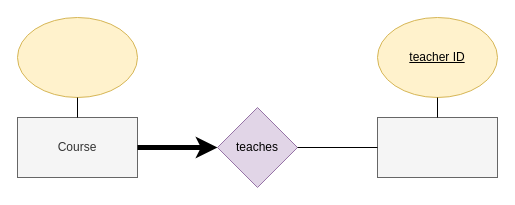
This 515x205 diagram has some shape labels left out. Each missing label, with the centre of its shape:
course ID: point (77, 57)
Teacher: point (437, 147)
